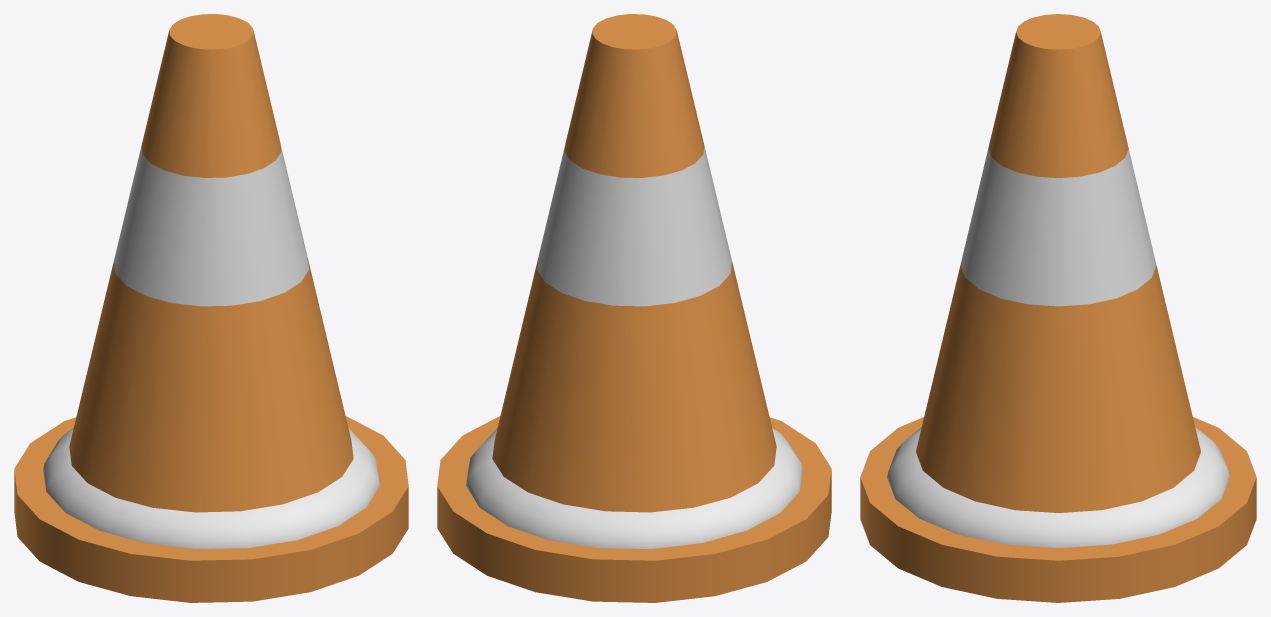
3 views of the same model, side by side, from view 1: azimuth 30°, elevation 25°; view 2: azimuth 150°, elevation 25°; view 3: azimuth 270°, elevation 25° (orthographic).
Visible parts, largest first — view 1: pCylinder2; view 2: pCylinder2; view 3: pCylinder2.
Part boxes in pixels (x1,y1,x2,y2): pCylinder2: (14,14,408,602); pCylinder2: (437,14,831,602); pCylinder2: (860,14,1256,602).
Bounding box in the file's own units: 2.58 × 3.5 × 2.58.
